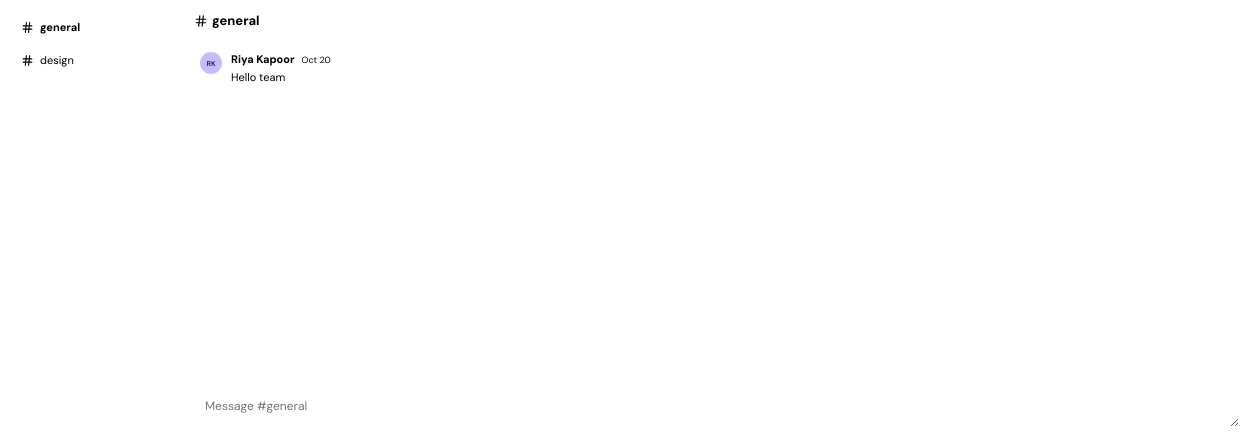
Scenario: ChatPanel (US-16) › sends with Enter and shows the saved message
Type "Standup at 10?" into the dropdown labelled "Message" at (716, 408), box [194, 389, 1239, 427]
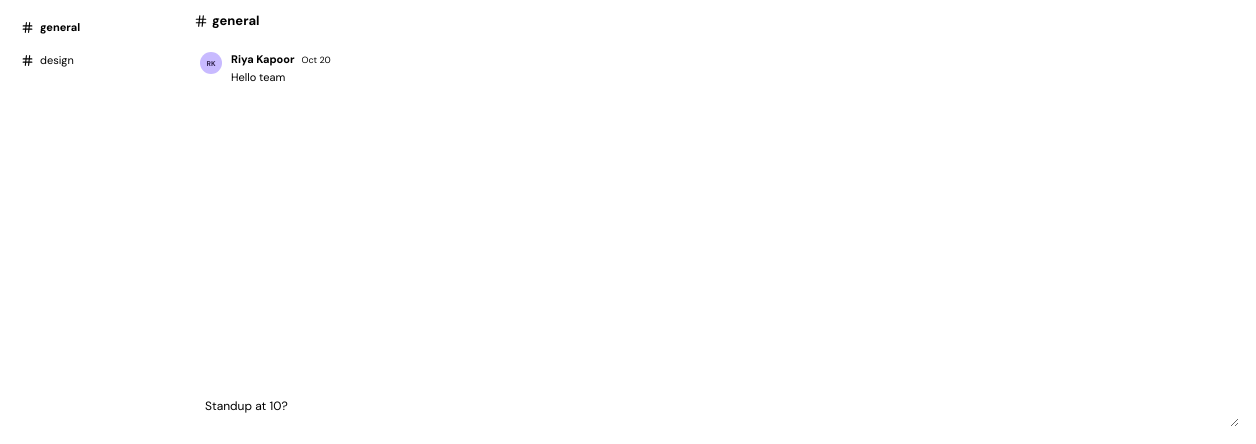
Press Enter in the dropdown named "Message", box [194, 389, 1239, 427]
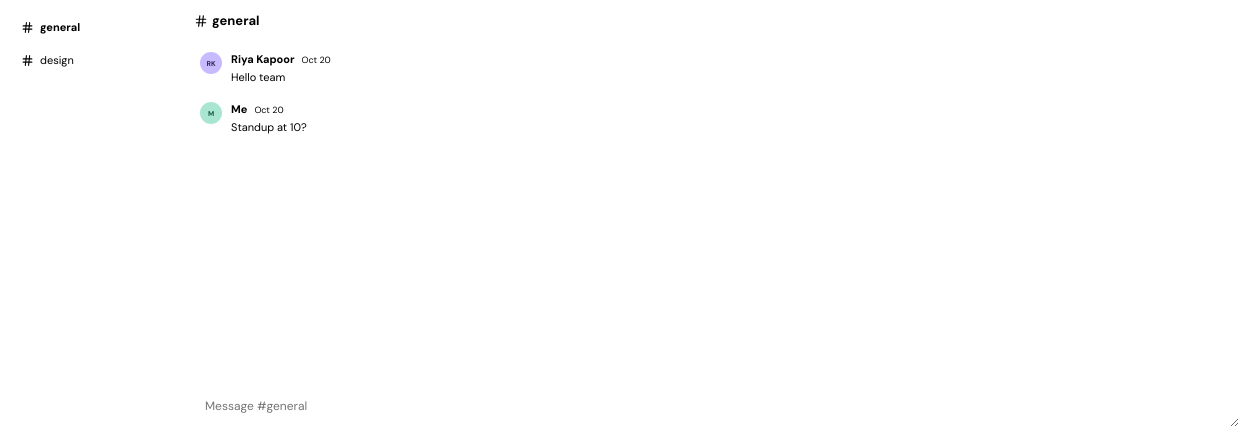
Result: the text "Standup at 10?" is shown at [231, 120, 307, 134]
